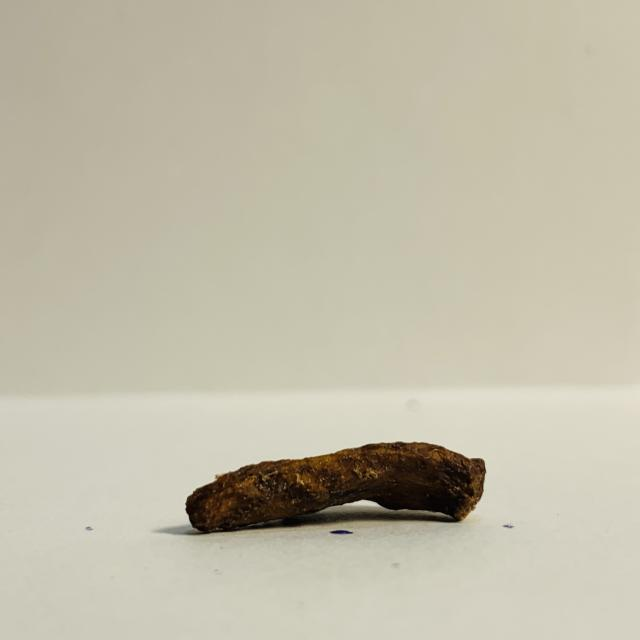Flat_cocoabeans: (88, 397, 501, 578)
